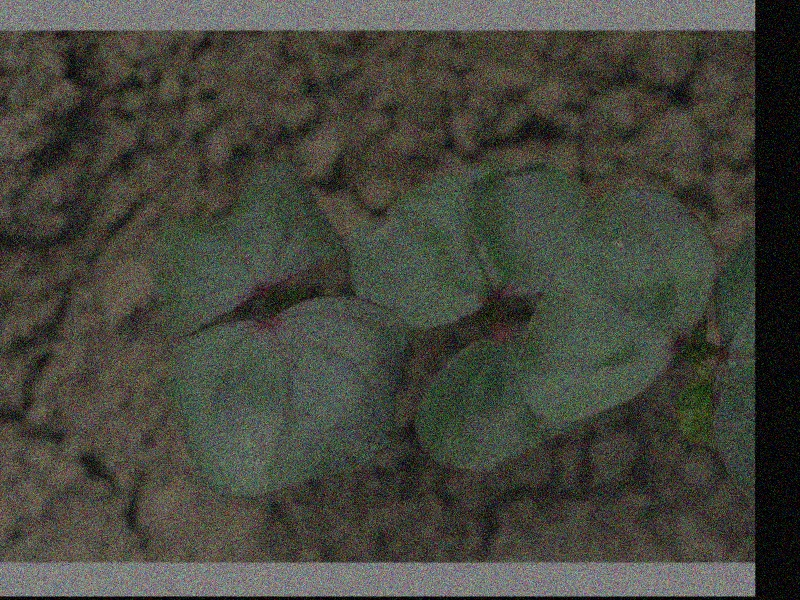cotton: (151, 158, 751, 499)
